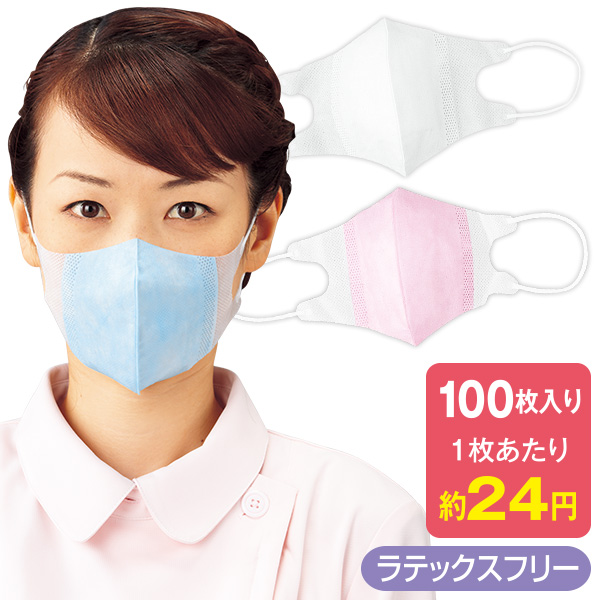mask: (33, 241, 242, 390)
